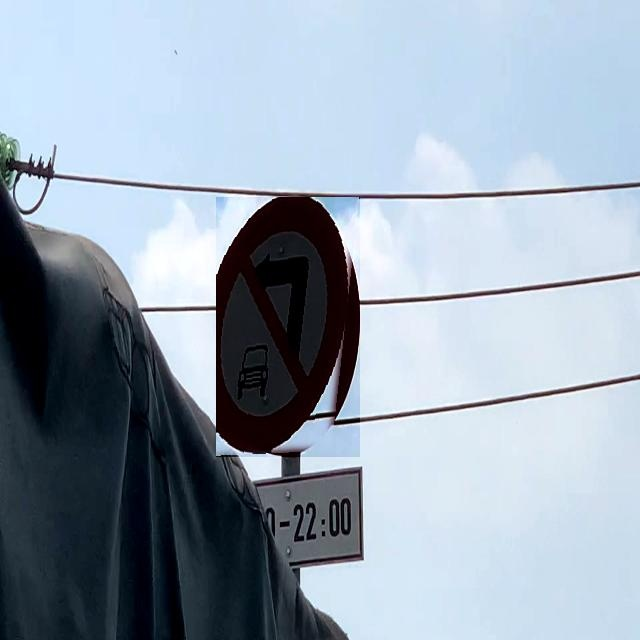bien_cam: (217, 197, 361, 457)
